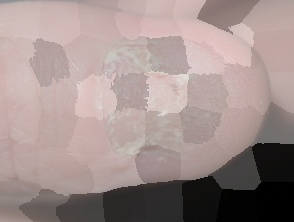Nail_psoriasis: (72, 18, 254, 182)
